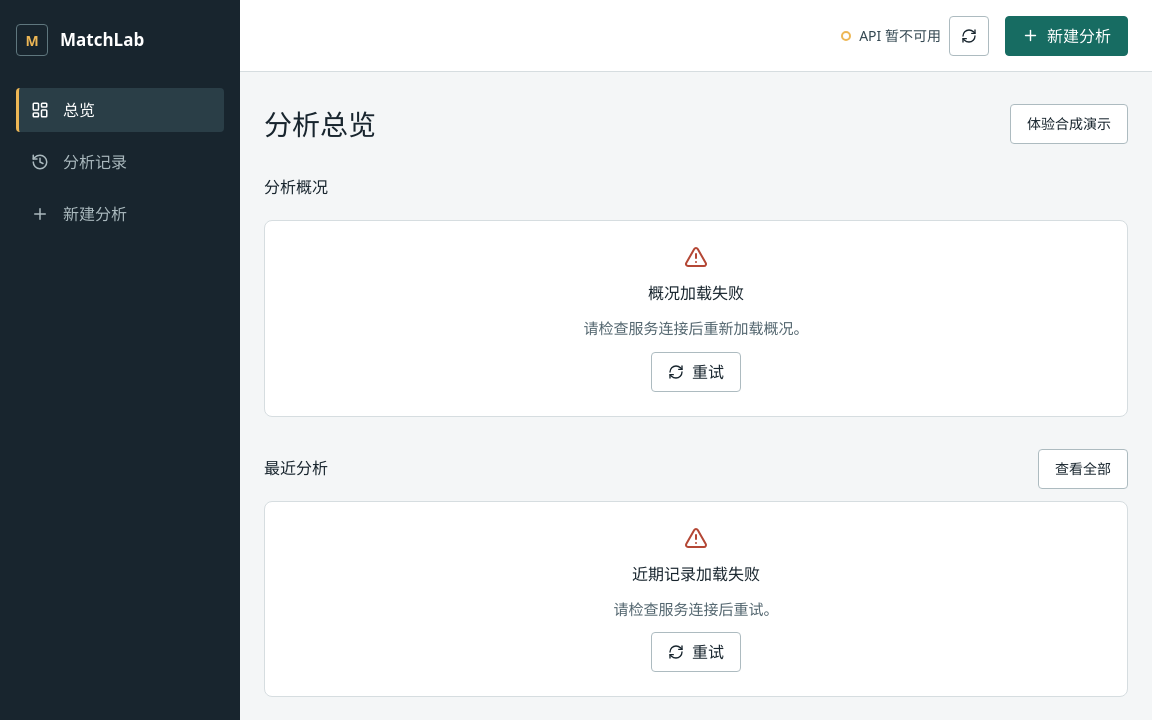
Test case: retries an unavailable health request and recovers to connected
Expected: the text "API 暂不可用" is shown, 859,25 -> 941,46
Click the button named "重新检查 API".
click(969, 36)  # box 949,16 -> 989,56
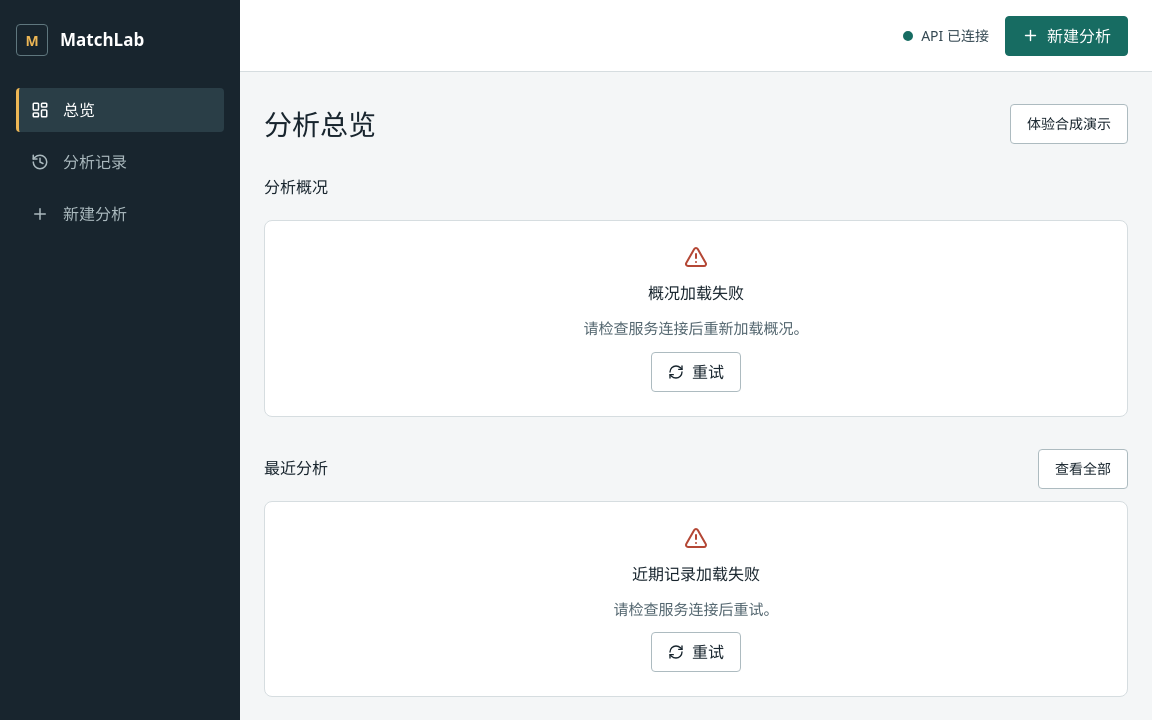
Now the text "API 已连接" is shown, box 921,25 -> 989,46
